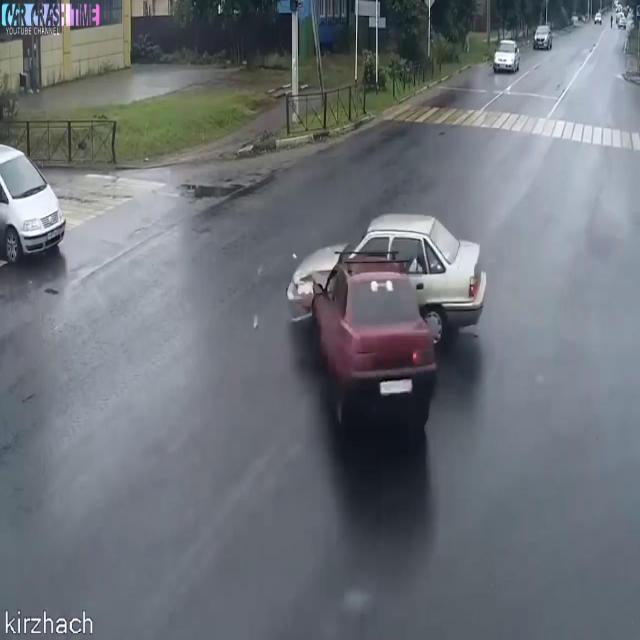accident: (273, 196, 495, 460)
